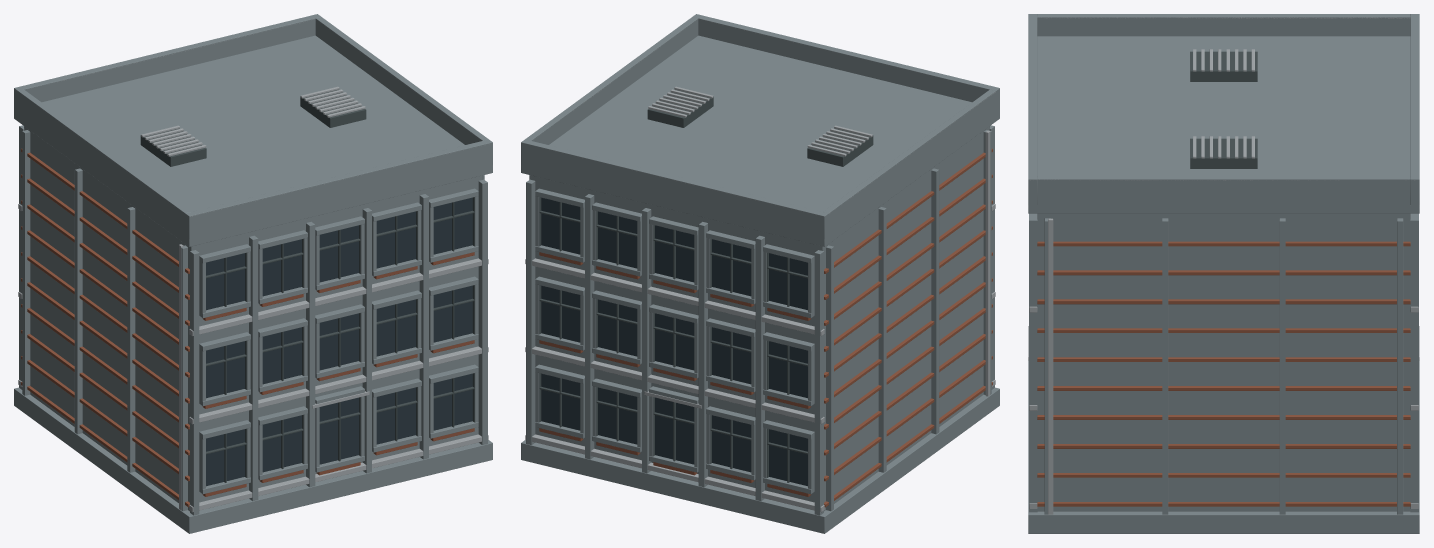
Rendered from SM_StreetBlock_01.fbx.
3 views of the same model, side by side, from view 1: azimuth 30°, elevation 25°; view 2: azimuth 150°, elevation 25°; view 3: azimuth 270°, elevation 25° (orthographic). The views are drawn at different scales.
Parts seen in each view (by area): view 1: SM_StreetBlock_01; view 2: SM_StreetBlock_01; view 3: SM_StreetBlock_01.
Boxes of the visible parts, x1,y1,x2,y2 form: SM_StreetBlock_01: (14,14,492,533); SM_StreetBlock_01: (521,14,999,533); SM_StreetBlock_01: (1028,14,1419,533).
Bounding box in the file's own units: 100 × 100 × 100.
